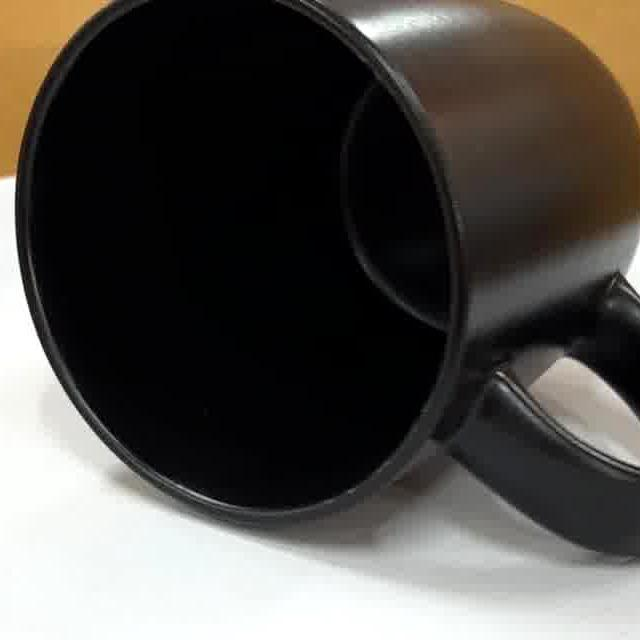cup: (16, 0, 640, 558)
